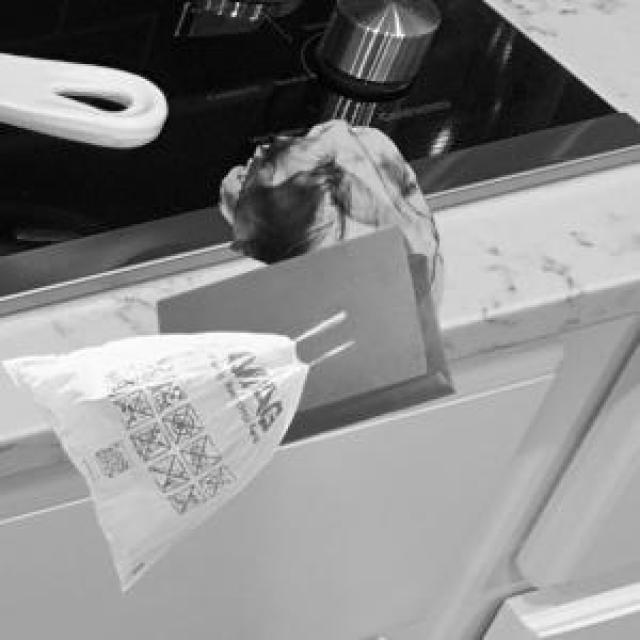paper: (154, 222, 452, 440)
